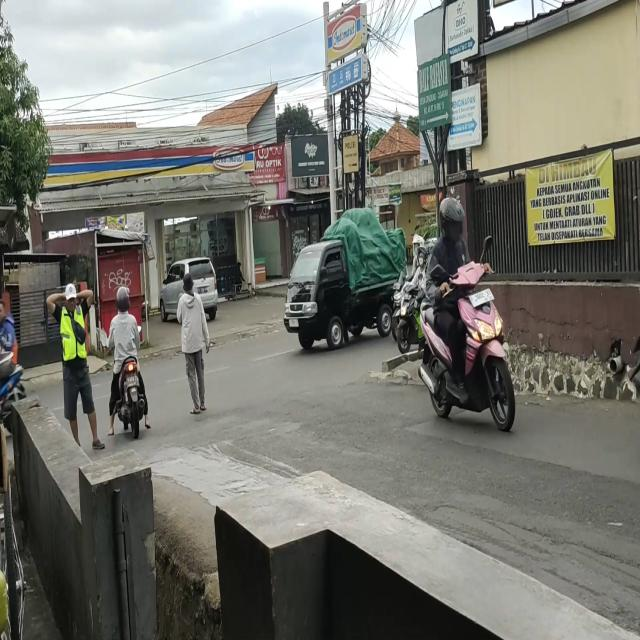helmet: (439, 196, 465, 244), (116, 286, 130, 312)
